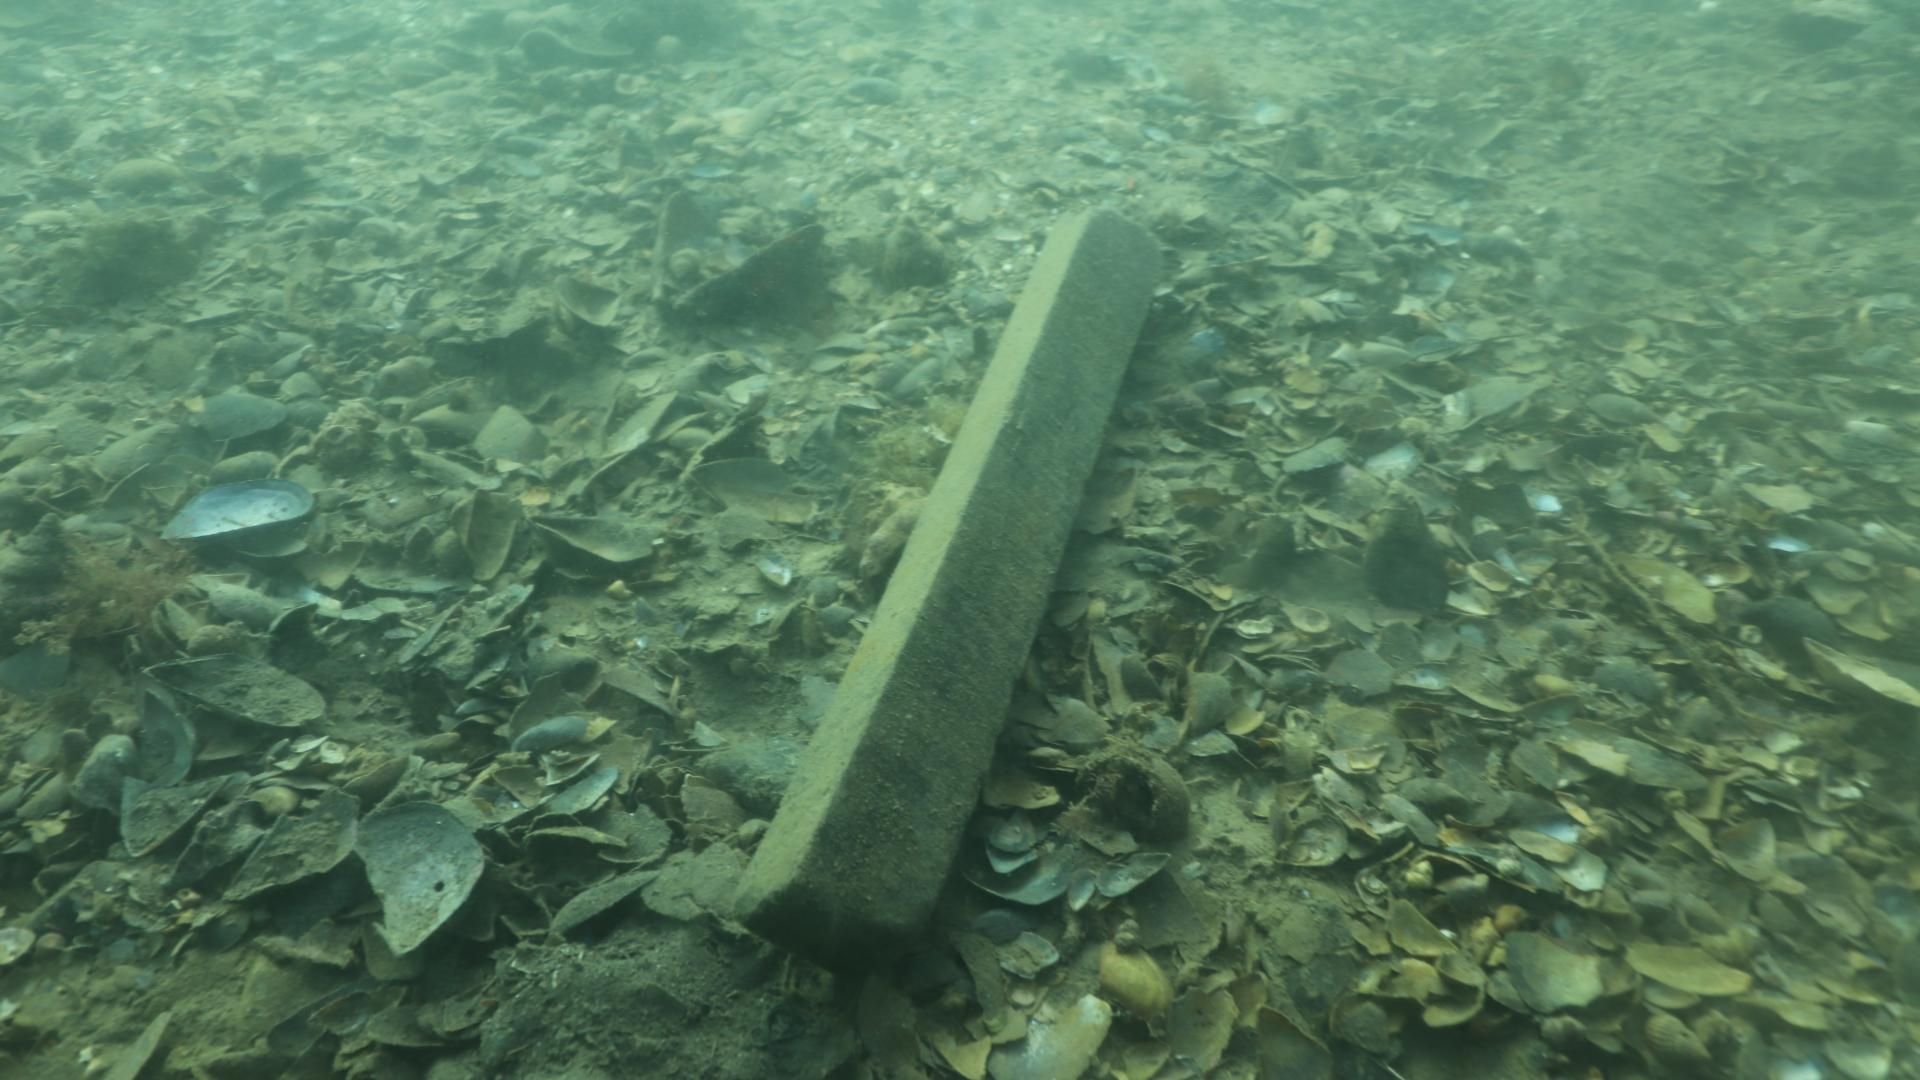wood: (727, 199, 1162, 975)
